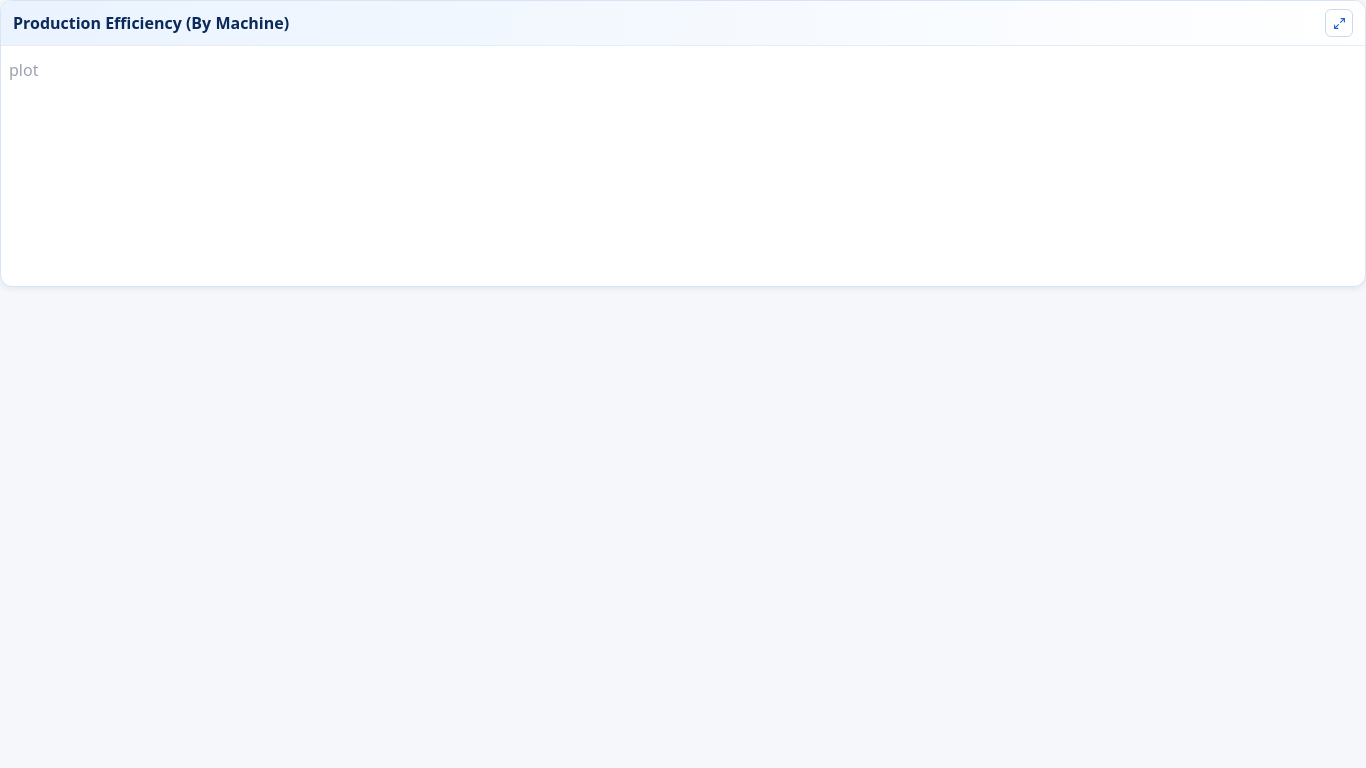
Test: Expand modal › opens at ~90% of the viewport above everything, with the same title, filter line and chart
Click the button named "Expand chart" at [1339, 23], box [1325,9,1353,37]
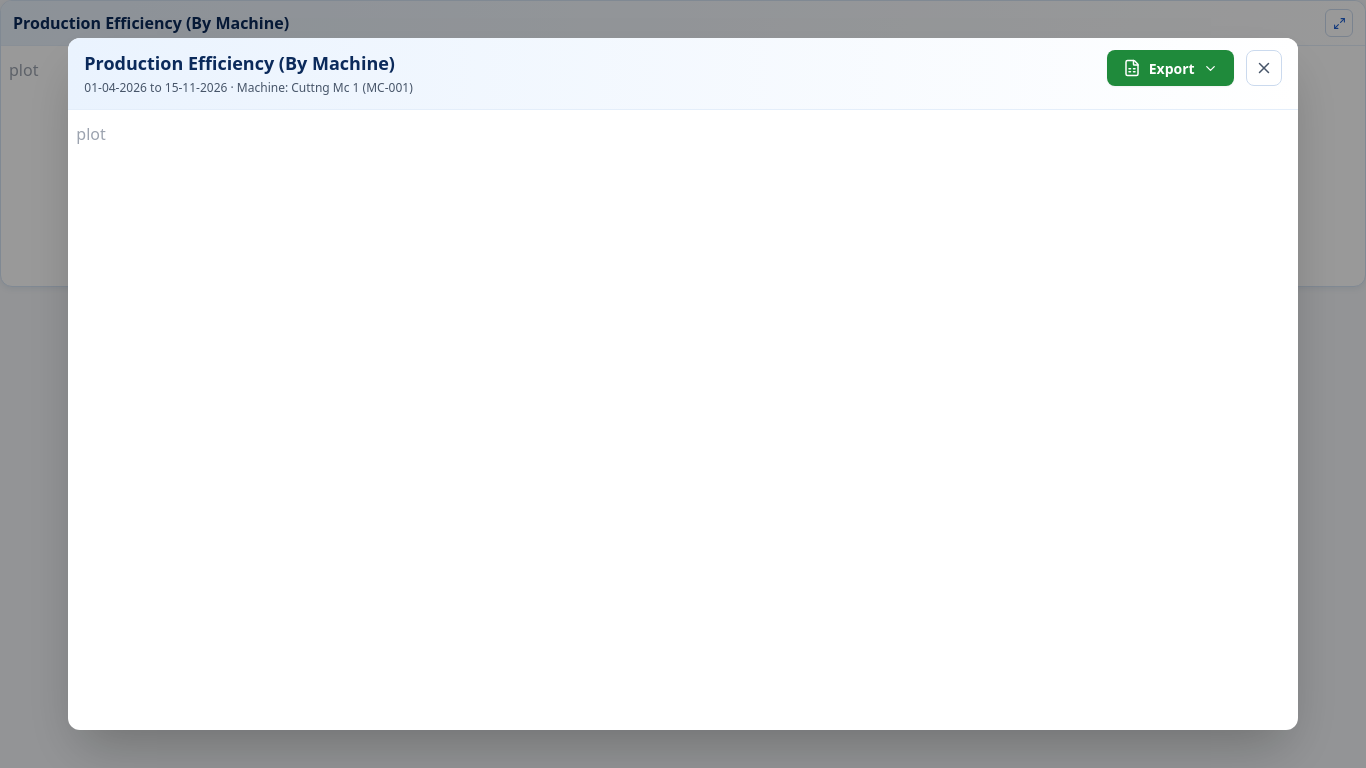
expect the text "01-04-2026 to 15-11-2026 · Machine: Cuttng Mc 1 (MC-001)" is shown: met, box [84,79,413,96]
expect the text "plot" is shown: met, box [76,123,106,145]
expect the number of elements with test id "plot" is 2: met, box [9,59,38,81]; [76,123,106,145]
